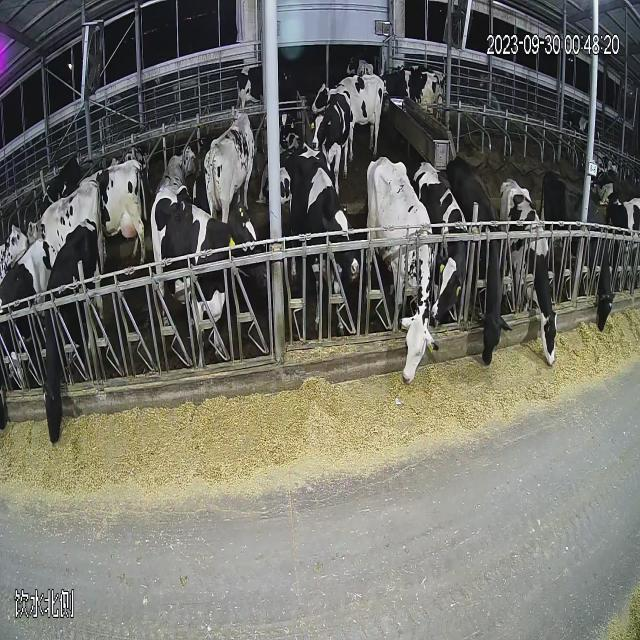feeding: (28, 207, 117, 478), (360, 145, 442, 434), (536, 151, 632, 370), (436, 150, 516, 398), (497, 163, 567, 390)
standing: (147, 177, 266, 387), (282, 148, 363, 358), (408, 152, 470, 332), (308, 68, 394, 165), (310, 83, 357, 203), (1, 213, 34, 297)
